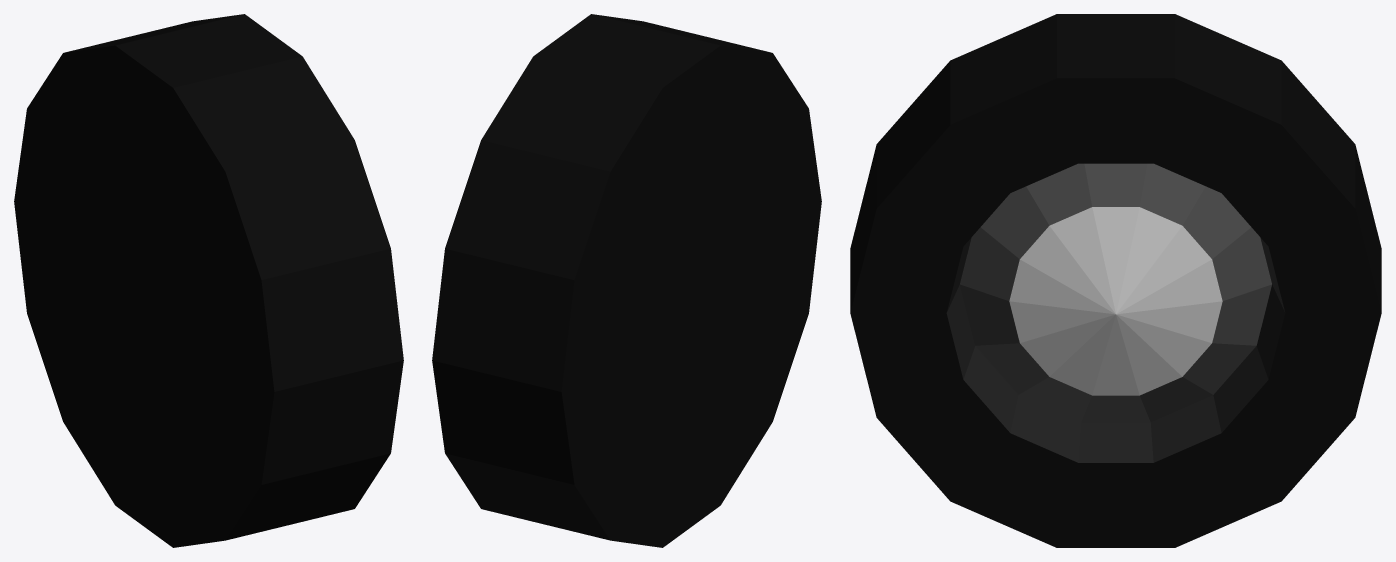
File: WheelAmbulanceFrontLeft.fbx
The picture shows the model from 3 angles, left to right: view 1: azimuth 30°, elevation 25°; view 2: azimuth 150°, elevation 25°; view 3: azimuth 270°, elevation 25°; orthographic projection. The views are drawn at different scales.
Parts seen in each view (by area): view 1: WheelAmbulanceFrontLeft; view 2: WheelAmbulanceFrontLeft; view 3: WheelAmbulanceFrontLeft.
Part boxes in pixels (box(x1,y1,x2,y2)): WheelAmbulanceFrontLeft: box(14, 14, 403, 547); WheelAmbulanceFrontLeft: box(432, 14, 821, 547); WheelAmbulanceFrontLeft: box(850, 14, 1381, 547).
Size of the model in its own units: 0.1852 by 0.6092 by 0.6249.
